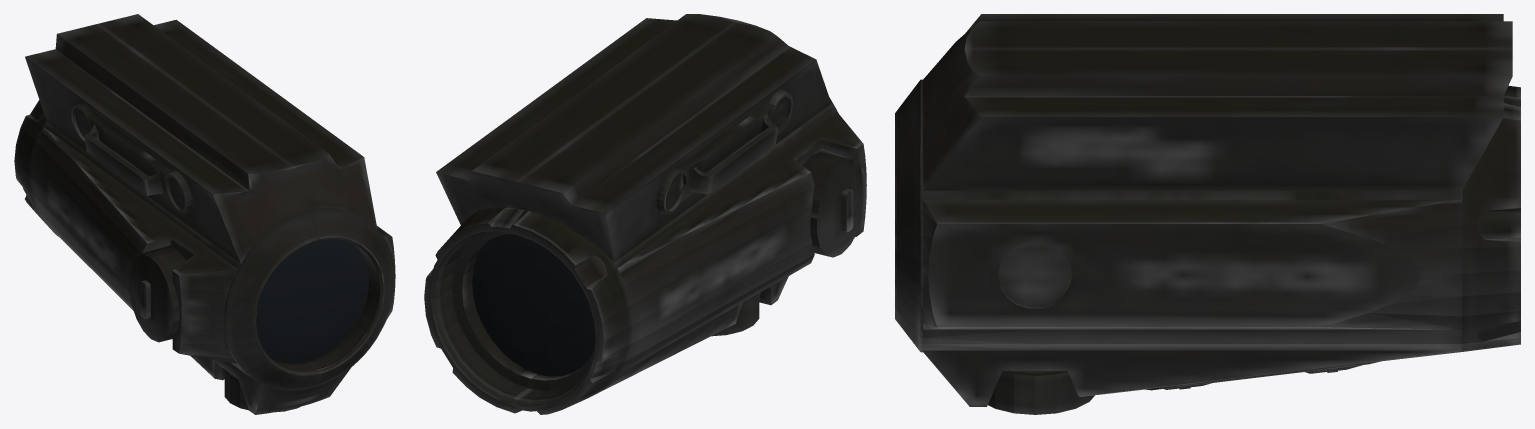
3 renders of one model, left to right at view 1: azimuth 30°, elevation 25°; view 2: azimuth 150°, elevation 25°; view 3: azimuth 270°, elevation 25°, orthographic. The views are drawn at different scales.
Visible parts, largest first — view 1: TW_5b3116595acfc40019476364_PZ_Import; view 2: TW_5b3116595acfc40019476364_PZ_Import; view 3: TW_5b3116595acfc40019476364_PZ_Import.
Part boxes in pixels (box(x1,y1,x2,y2)): TW_5b3116595acfc40019476364_PZ_Import: box(14, 14, 395, 414); TW_5b3116595acfc40019476364_PZ_Import: box(424, 14, 866, 414); TW_5b3116595acfc40019476364_PZ_Import: box(895, 14, 1520, 414).
Bounding box in the file's own units: 0.0198 × 0.0362 × 0.0224.
1 material, 1 textured.
